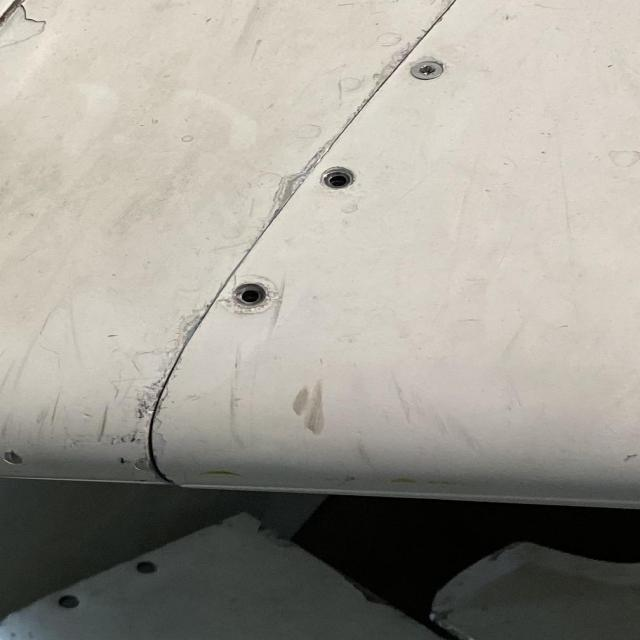Missing-head: (233, 281, 272, 310), (322, 166, 357, 189)
Paint-off: (3, 451, 24, 466)
